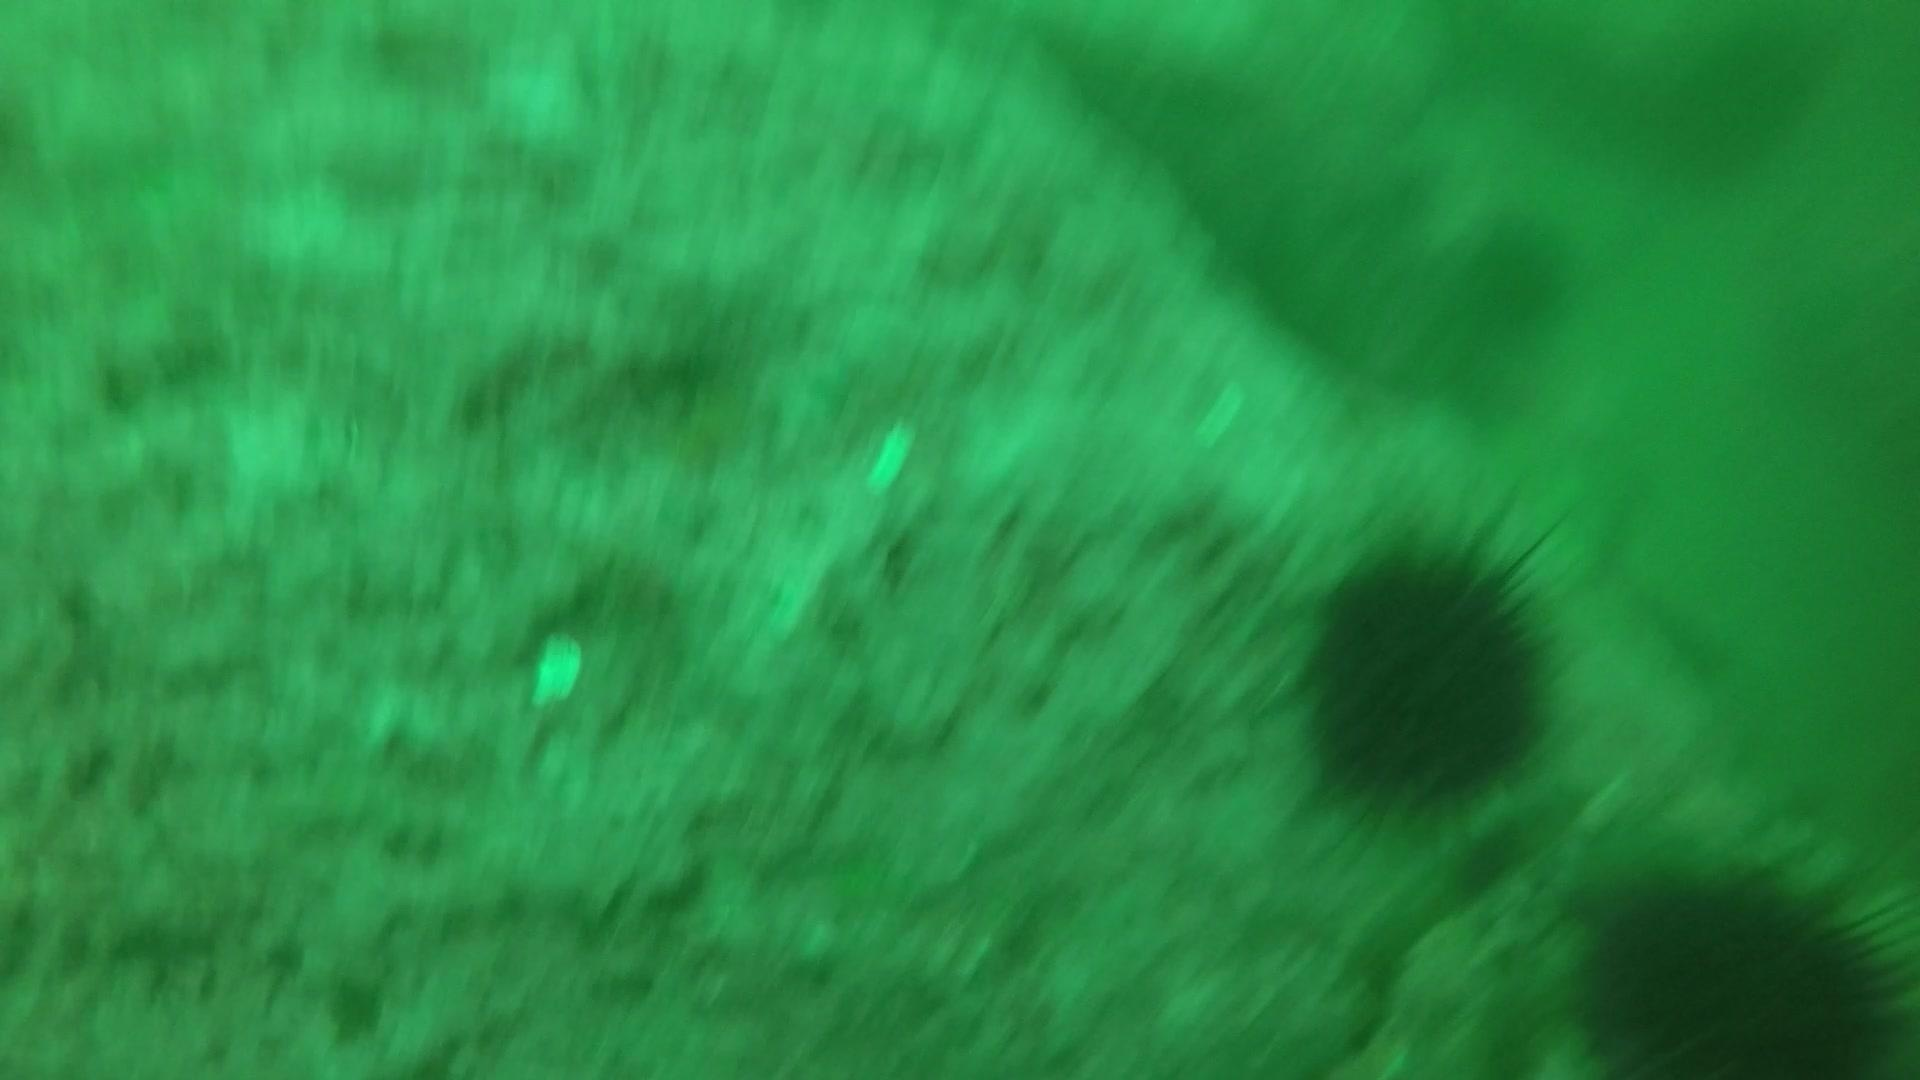echinus: (1291, 520, 1571, 823), (1556, 848, 1913, 1077), (1453, 208, 1578, 338)
